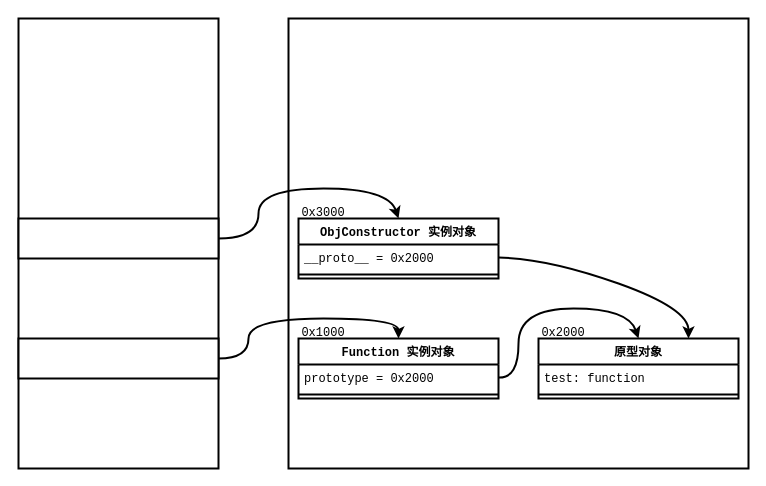
This 766x486 diagram has some shape labels left out. The centre of each missing label's shape, as x and y in pixels:
"obj = 0x3000" goes at point 118,238.
"ObjConstructor = 0x1000" goes at point 118,358.
